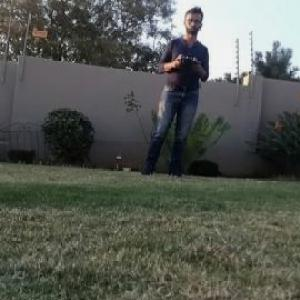follow: (132, 0, 212, 181)
